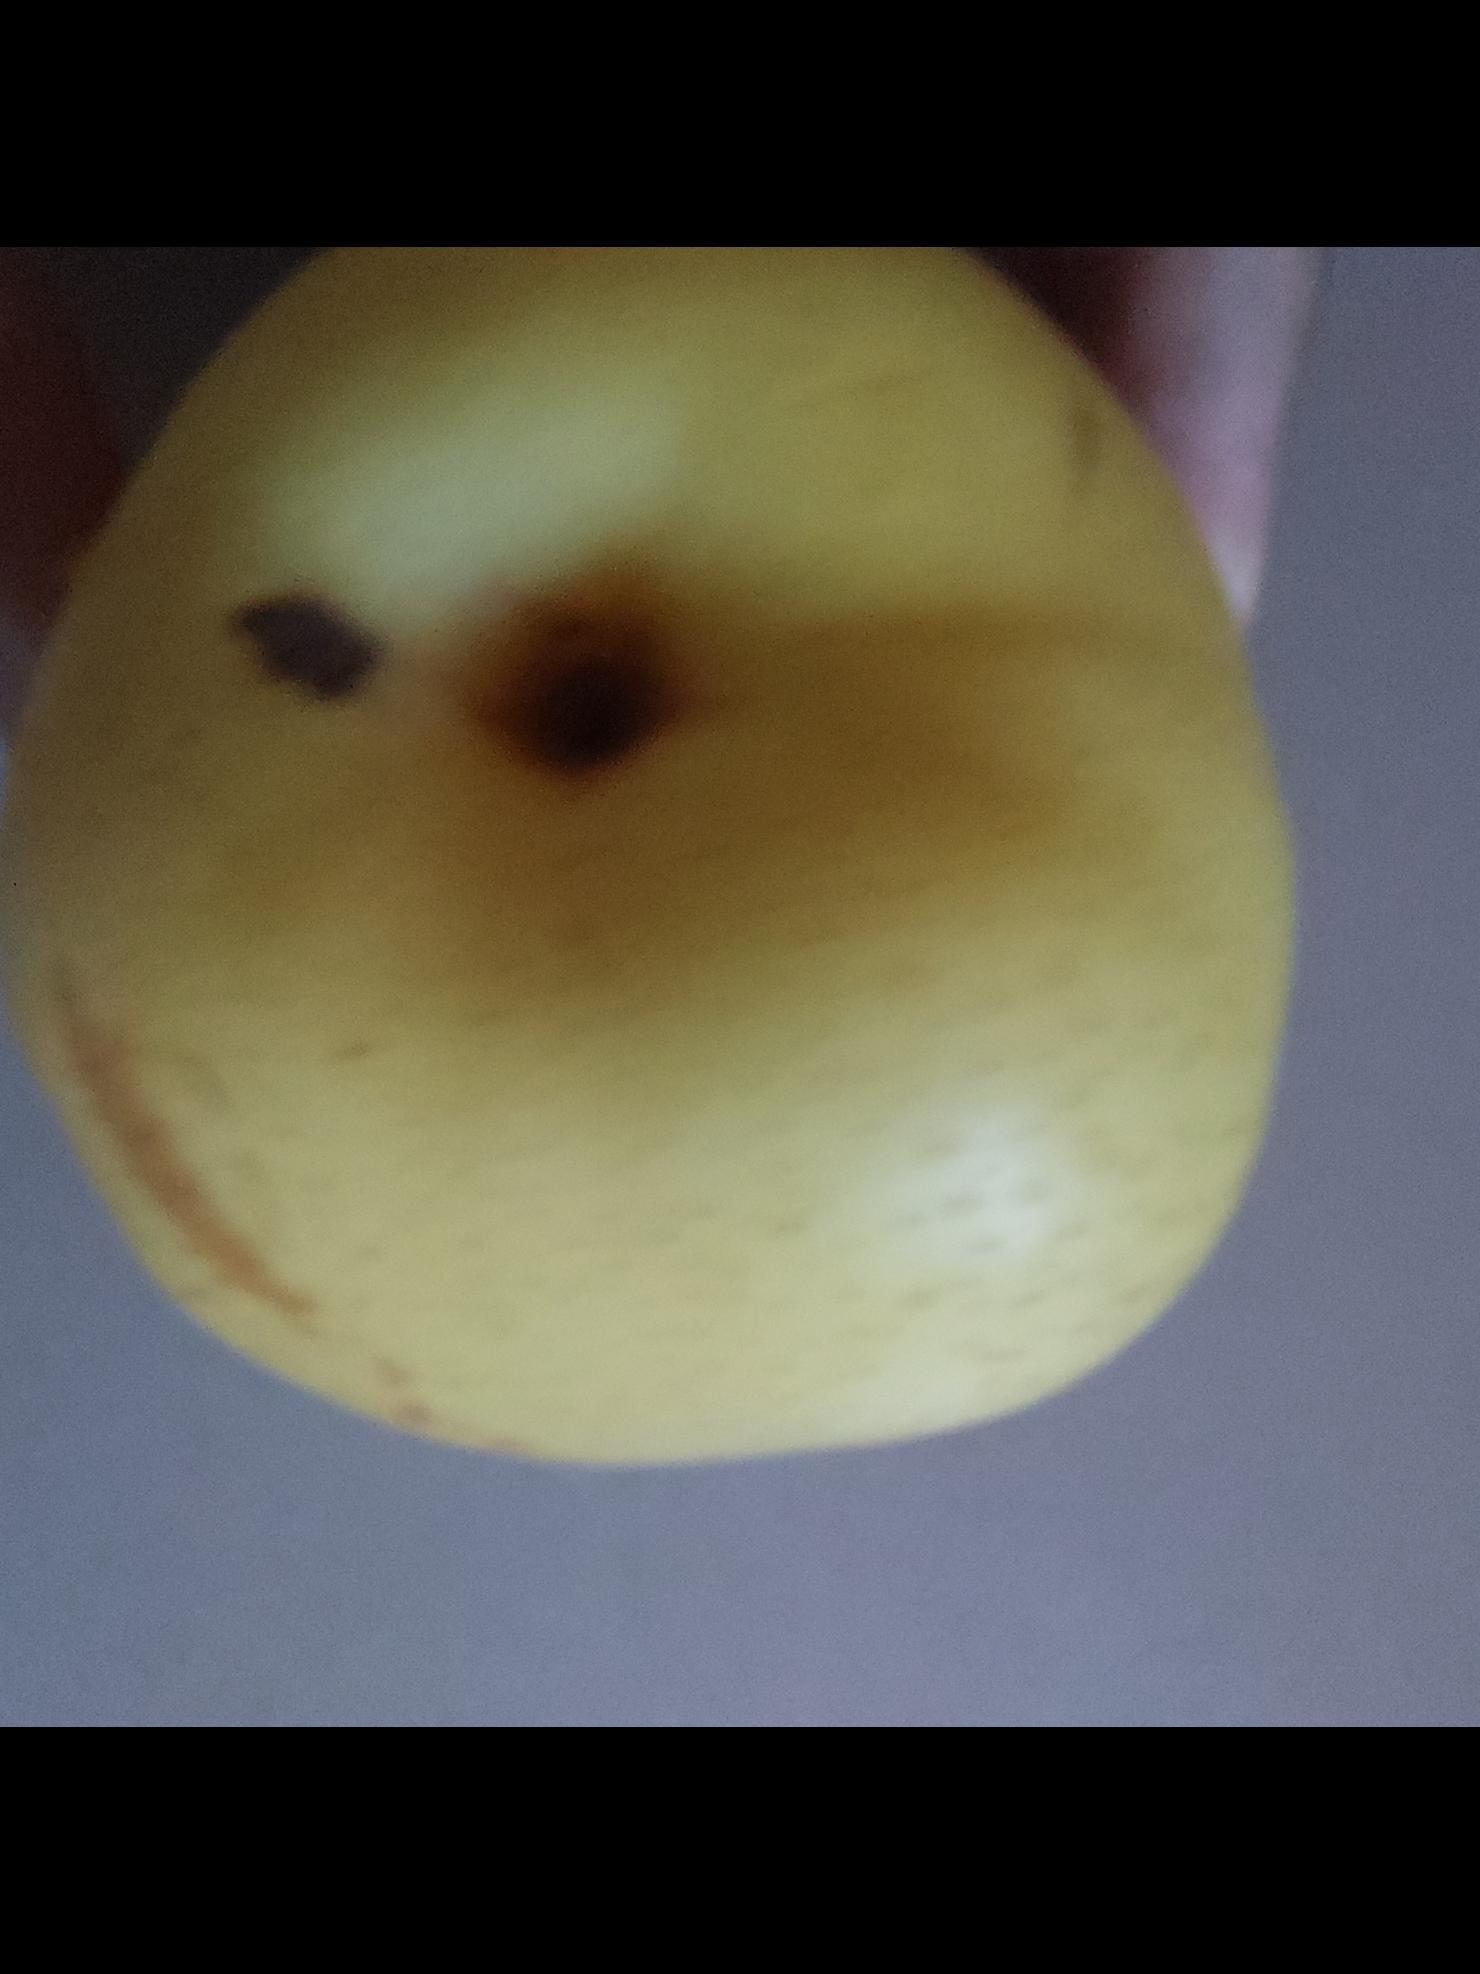Good Pear: (0, 247, 1309, 1477)
